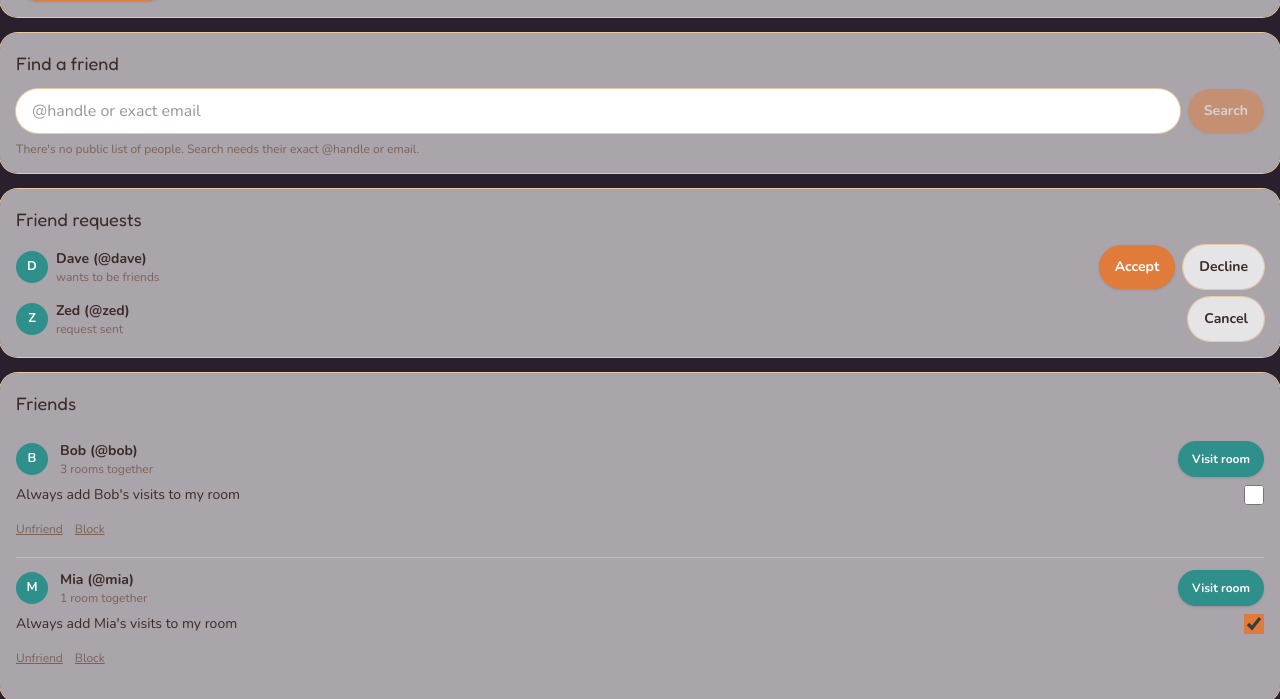
Test: FriendsPanel › unfriends and blocks after confirming
The image size is (1280, 699).
Later steps or results of the test are not shown.
(page scrolled)
Click the button with test id "friend-unfriend" below "Bob (@bob)" at (39, 529), box x1=16 y1=513 x2=63 y2=545
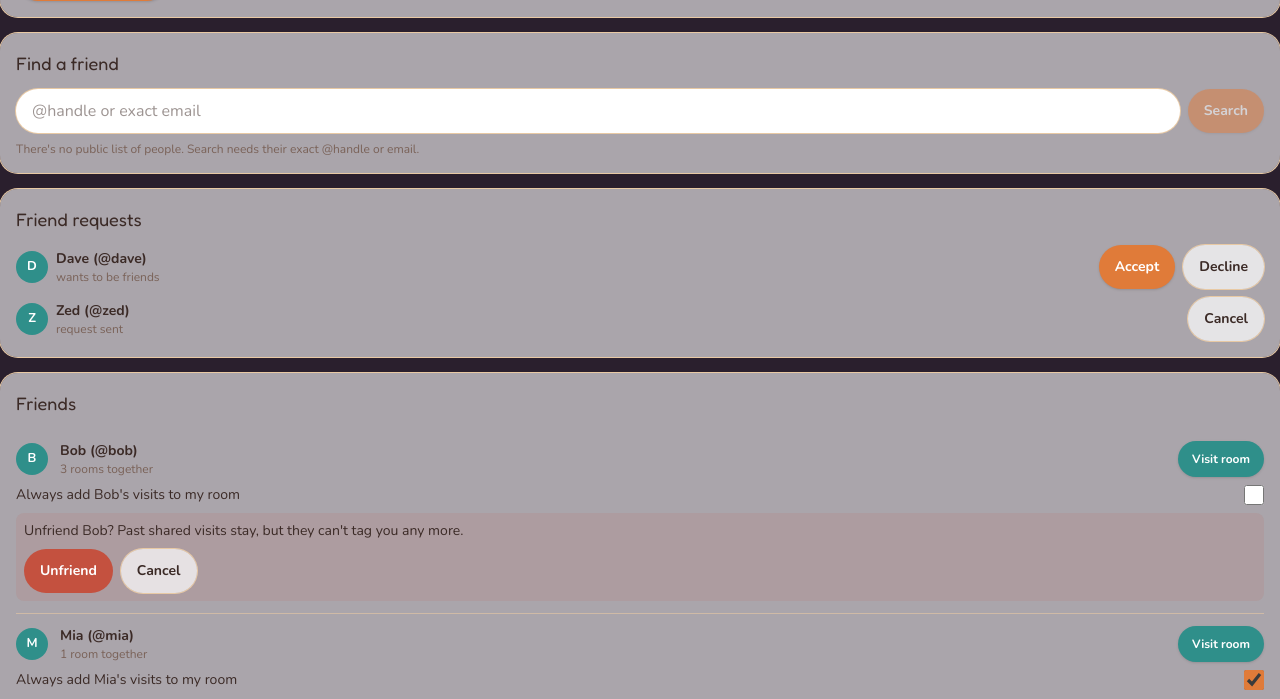
Expected: the list item with test id "friend-row" shows "Past shared visits stay", x1=24 y1=521 x2=464 y2=540
